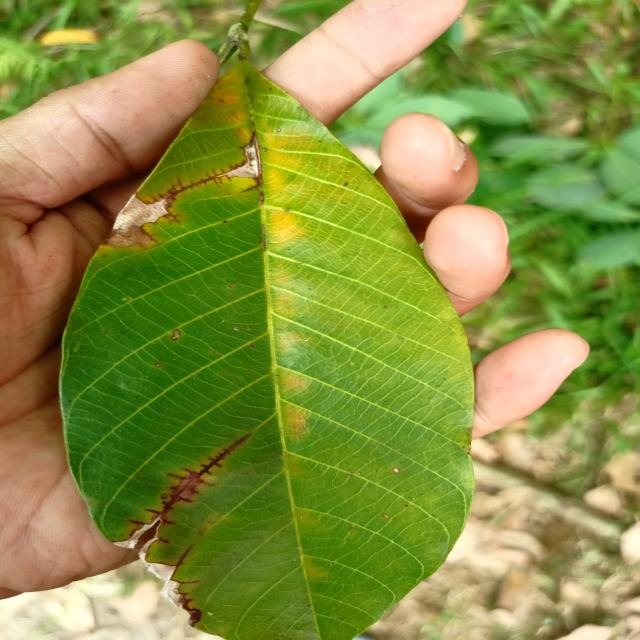Colletotrichum: (393, 466, 400, 474), (161, 493, 168, 500), (276, 128, 282, 132), (229, 284, 233, 288)
Corynespora: (128, 432, 255, 526), (150, 160, 247, 210), (170, 544, 202, 627)
Leaf-Blight: (105, 194, 169, 247), (142, 538, 182, 608), (113, 518, 159, 549), (229, 146, 260, 178)
